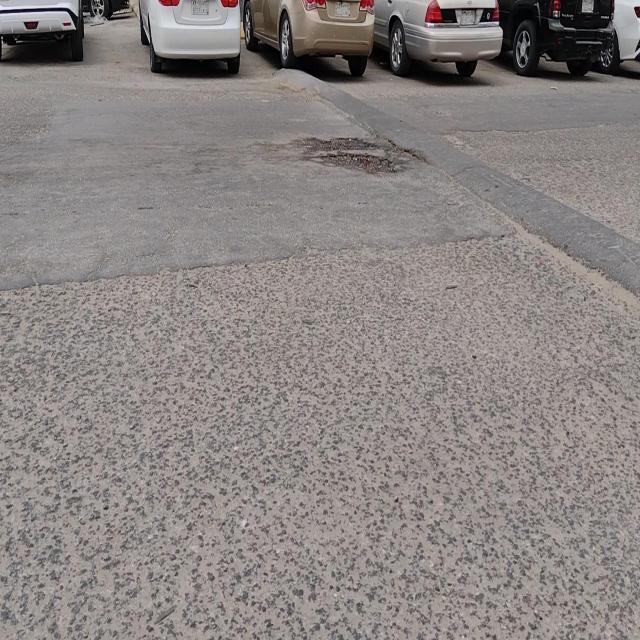Pothole: (294, 129, 398, 177)
